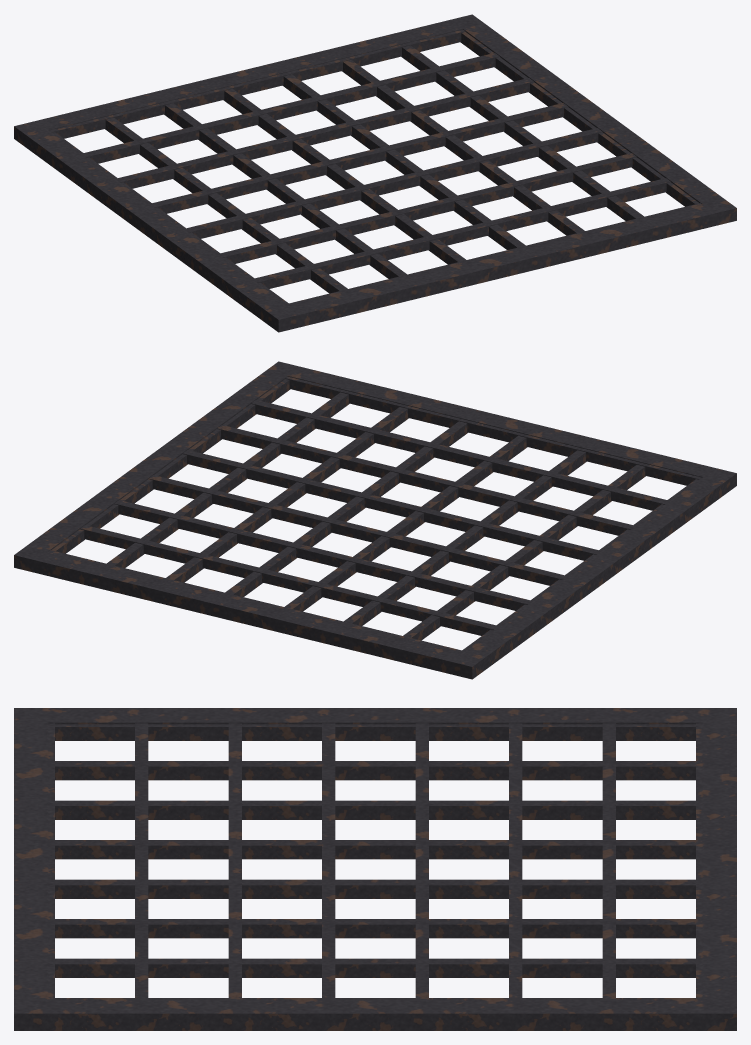
Rendered from dun_grate.glb.
3 renders of one model, top to bottom at view 1: azimuth 30°, elevation 25°; view 2: azimuth 150°, elevation 25°; view 3: azimuth 270°, elevation 25°, orthographic. The views are drawn at different scales.
Visible parts, largest first — view 1: dun_grate_iron_0; view 2: dun_grate_iron_0; view 3: dun_grate_iron_0.
Boxes of the visible parts, x1=… form: dun_grate_iron_0: x1=14, y1=14, x2=736, y2=332; dun_grate_iron_0: x1=14, y1=361, x2=736, y2=679; dun_grate_iron_0: x1=14, y1=708, x2=736, y2=1030.
Bounding box in the file's own units: 3.8 × 0.1 × 3.8.
Materials: 1 (1 with a texture image).
